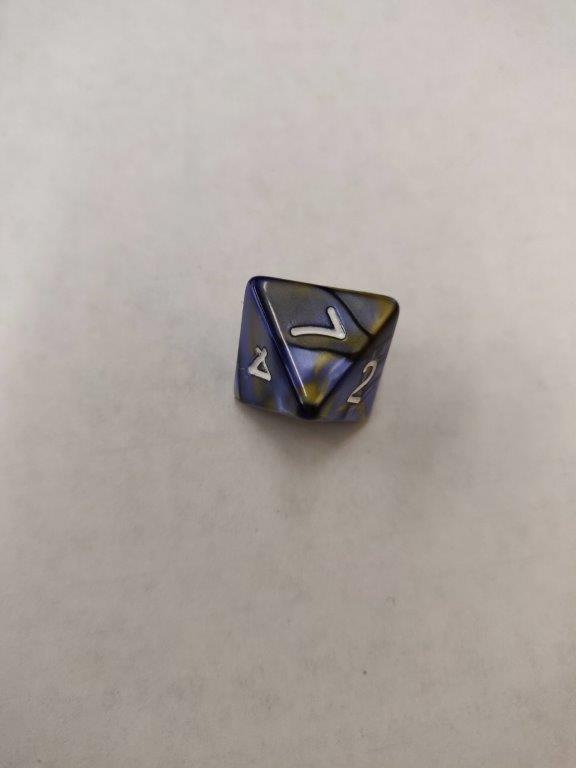d8-7: (232, 278, 401, 426)
